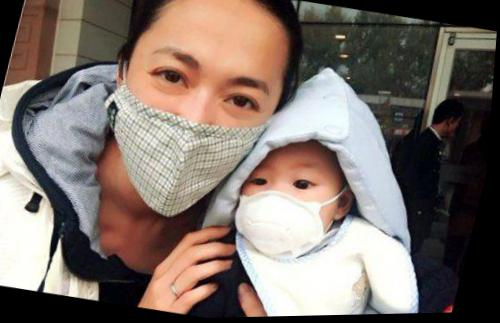OK: (233, 145, 349, 268)
WRONG: (96, 26, 295, 232)
